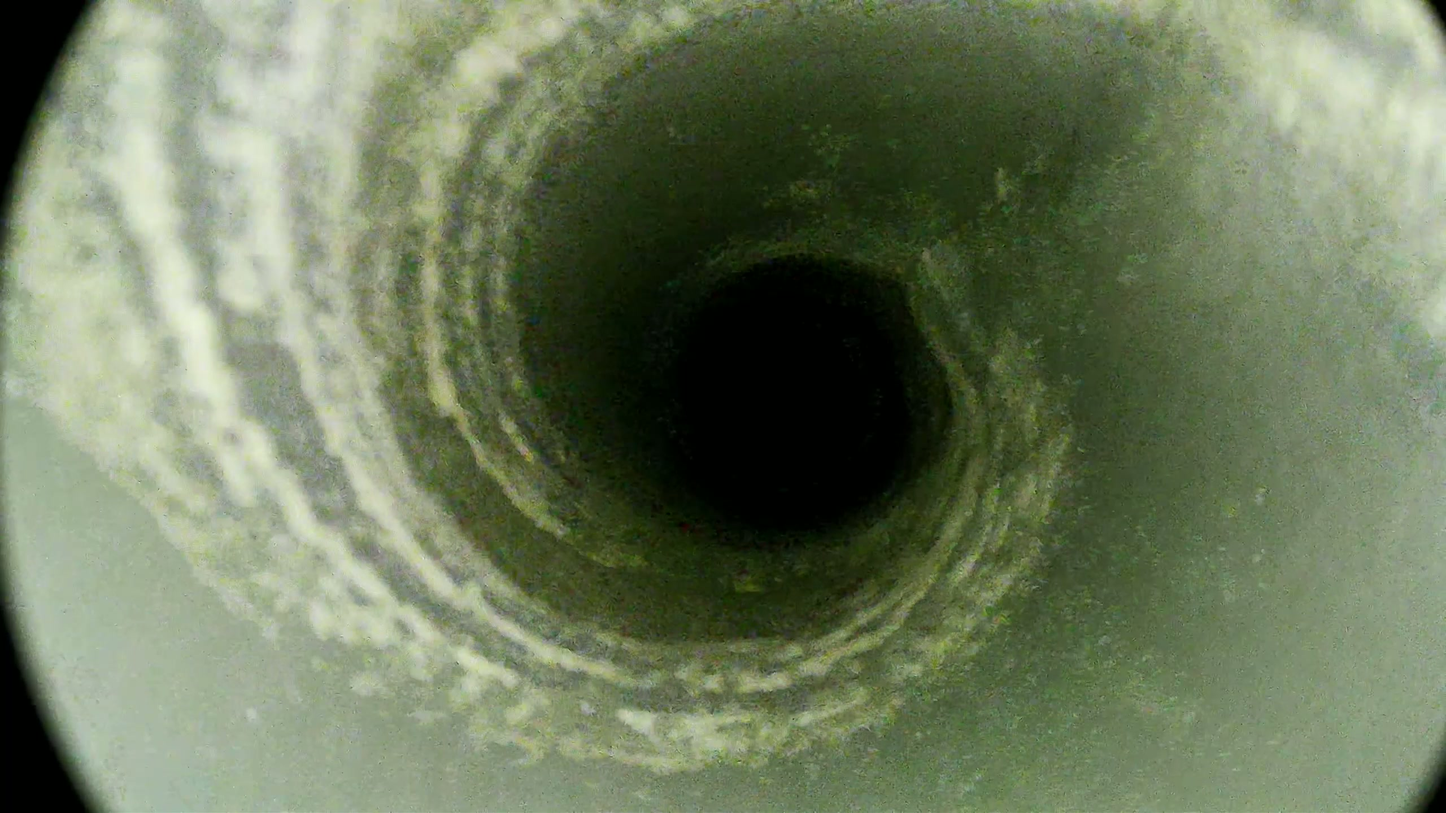hole: (685, 314, 868, 486)
